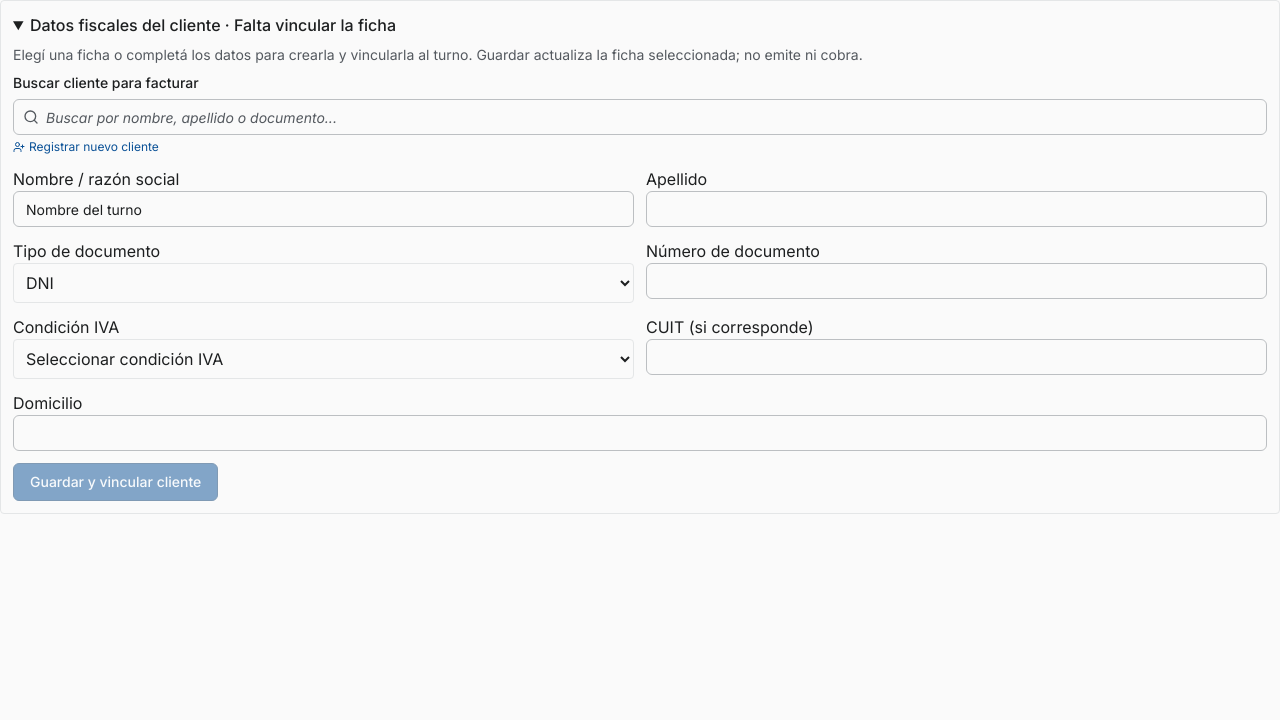
Test: el rechazo conserva la ficha sin tratar el guardado como completado
The image size is (1280, 720).
Type "30111222" into the field labelled "Número de documento" at (956, 281), box top-left (646, 263), bottom-right (1267, 299)
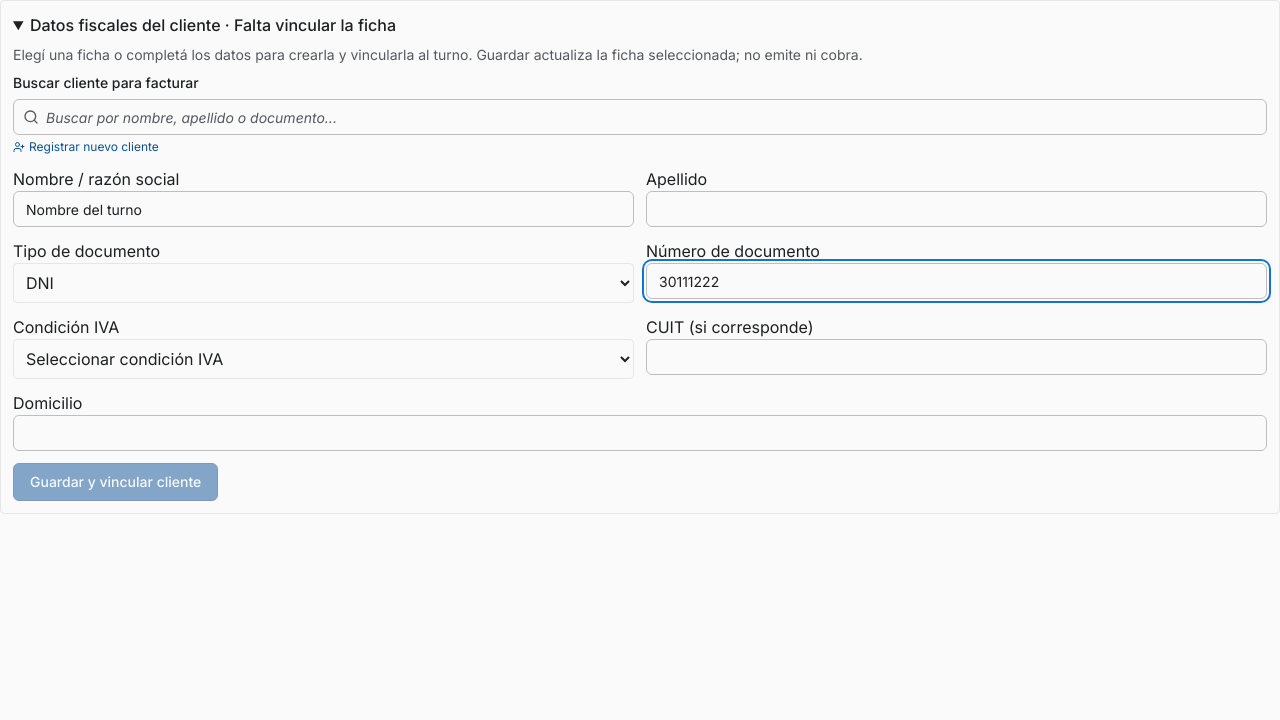
Select "Consumidor final" in the dropdown labelled "Condición IVA" at (324, 359), box top-left (13, 339), bottom-right (634, 379)
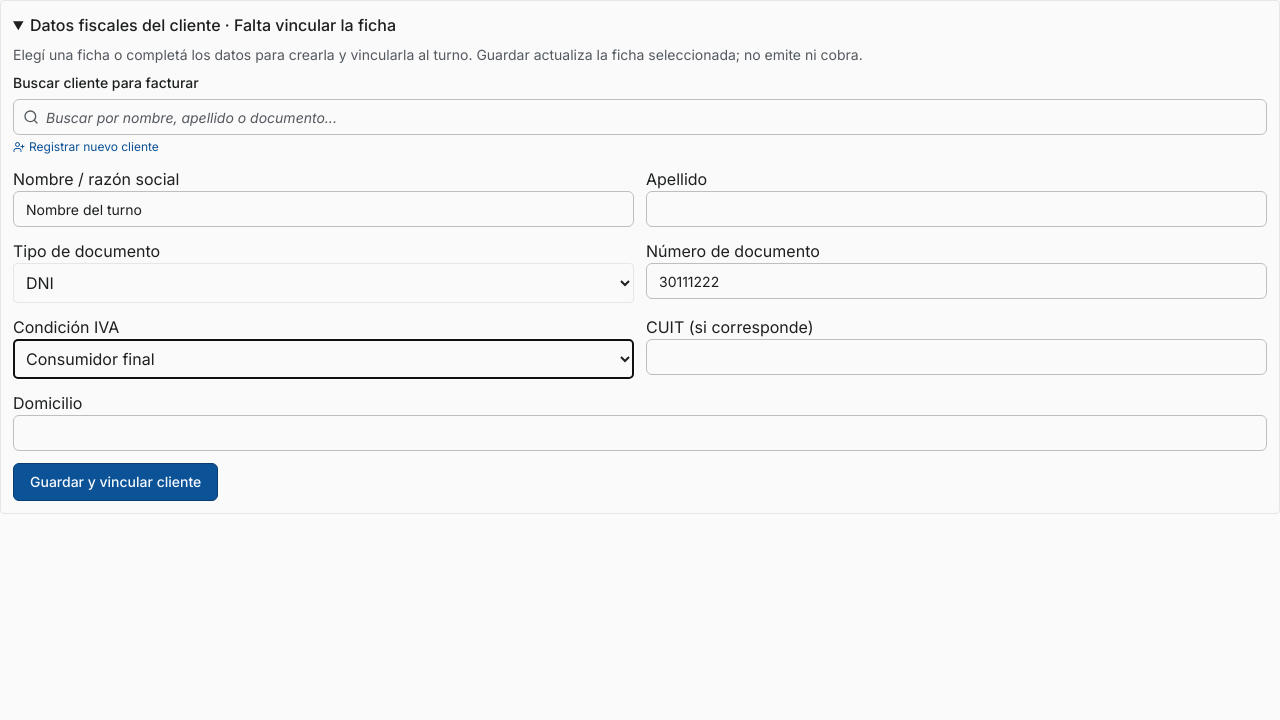
Click the button "Guardar y vincular cliente" at (116, 482), box top-left (13, 463), bottom-right (218, 501)
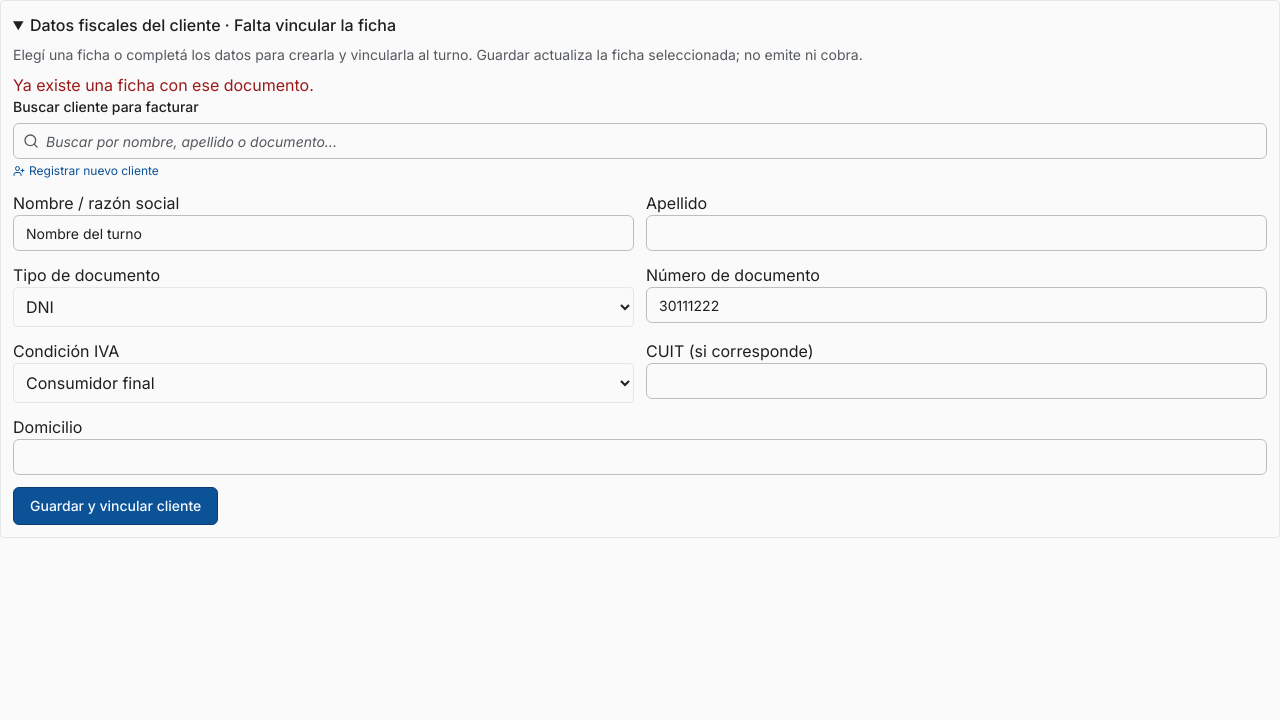
Expected: the message shows "Ya existe una ficha", top-left (13, 75), bottom-right (314, 95)
